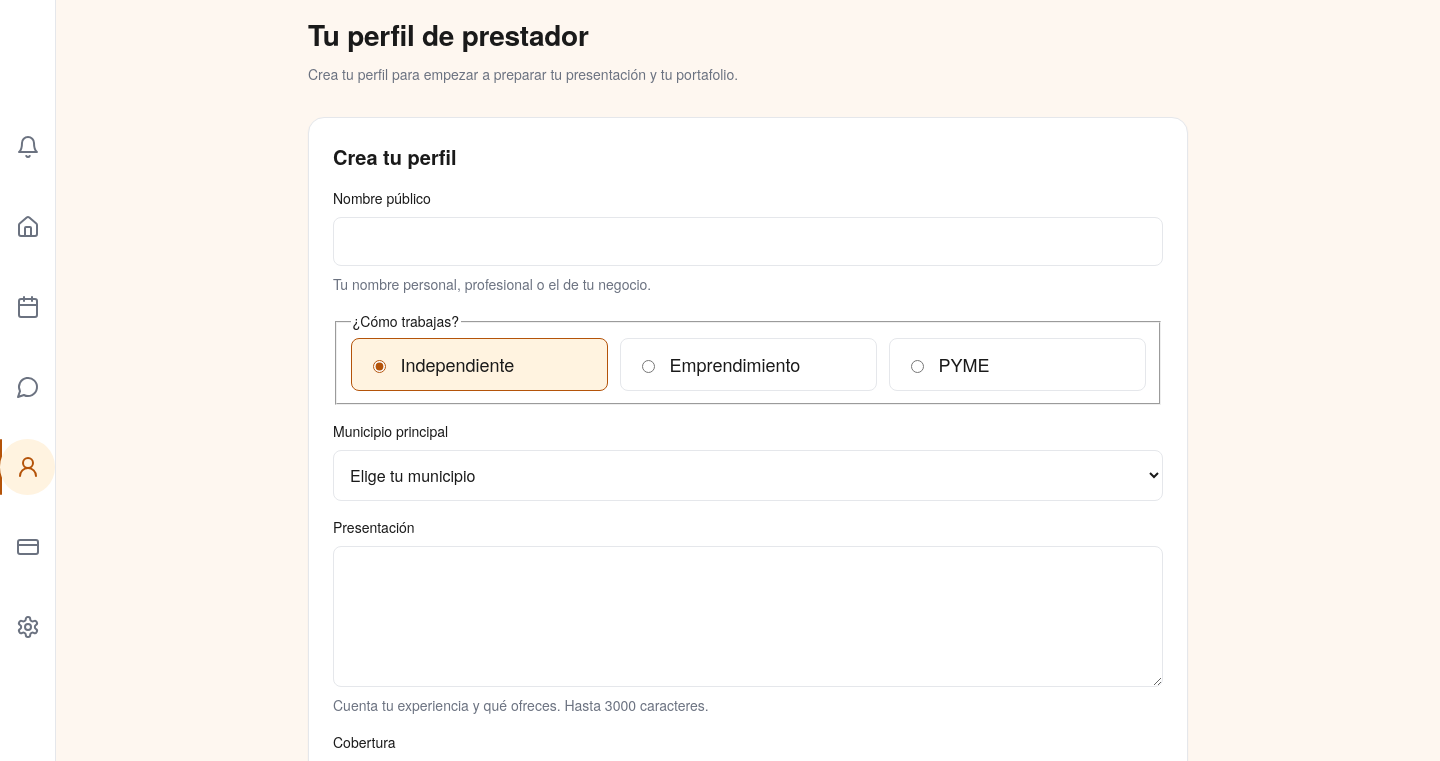
Scenario: Perfil de prestador › muestra el detalle por campo que devuelve el backend
Expected: the heading "Crea tu perfil" is shown, [333,142,456,171]
Type "Taller" into the field labelled "Nombre público" at (748, 242), box [333,217,1163,266]
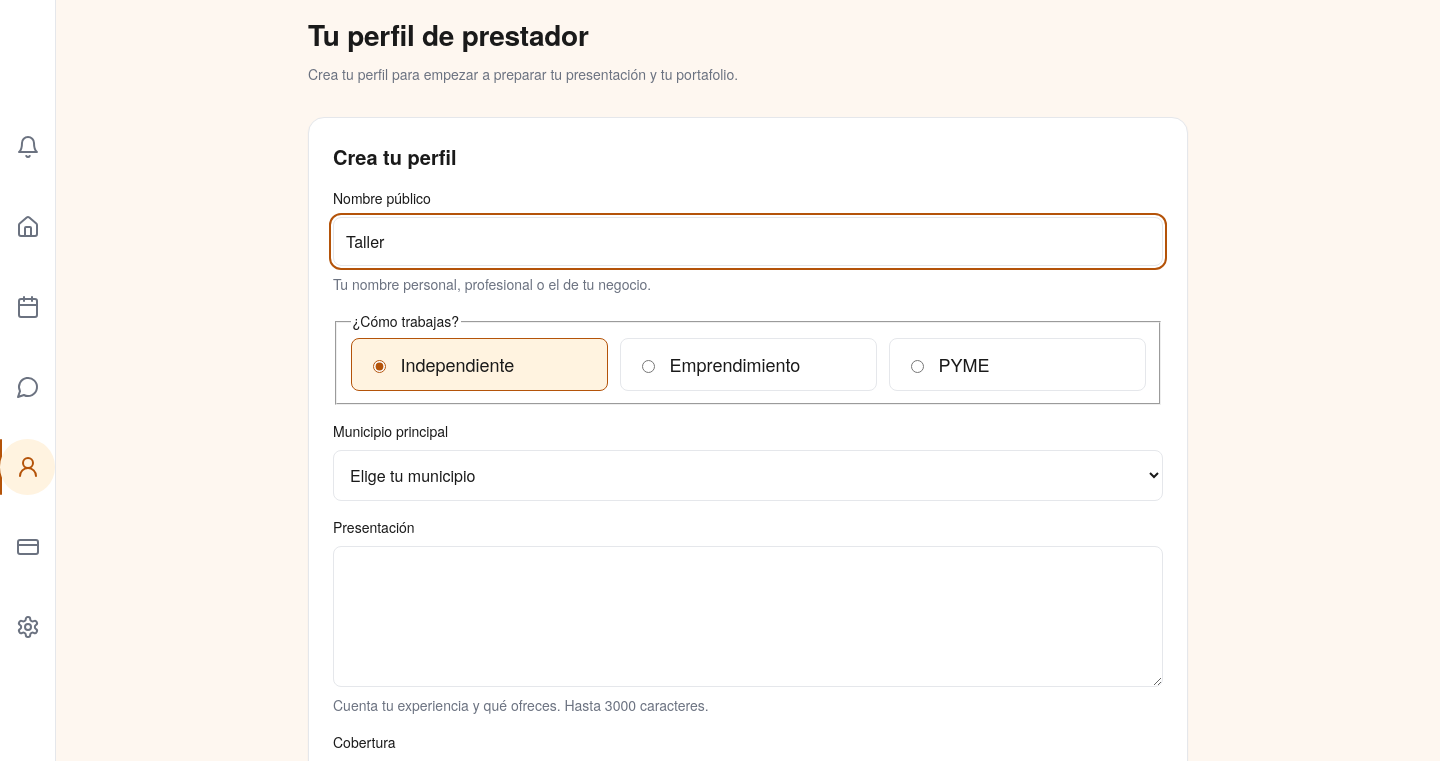
Select "Managua" in the dropdown labelled "Municipio principal" at (748, 475), box [333,450,1163,500]
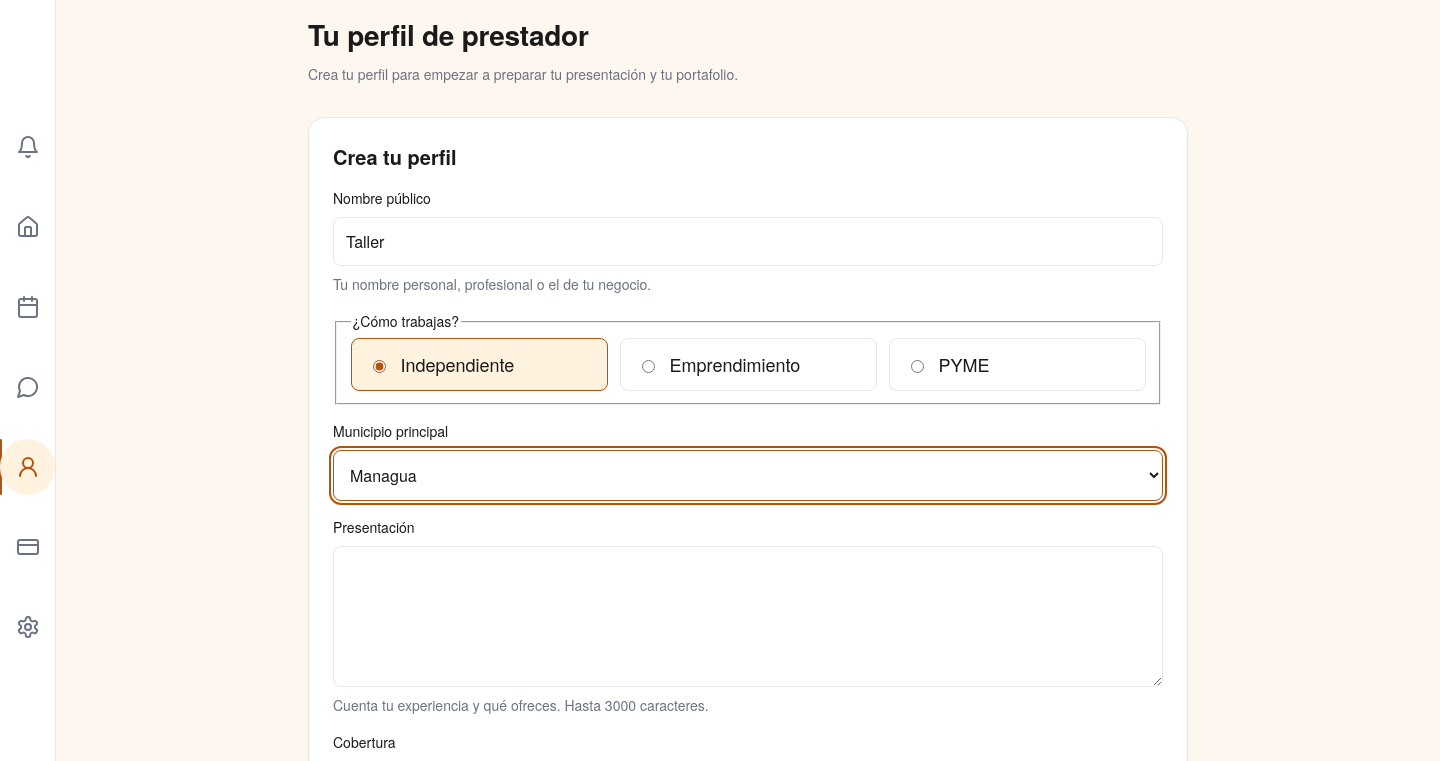
Type "Presentación de prueba." into the text box labelled "Presentación" at (748, 616), box [333,546,1163,686]
(page scrolled)
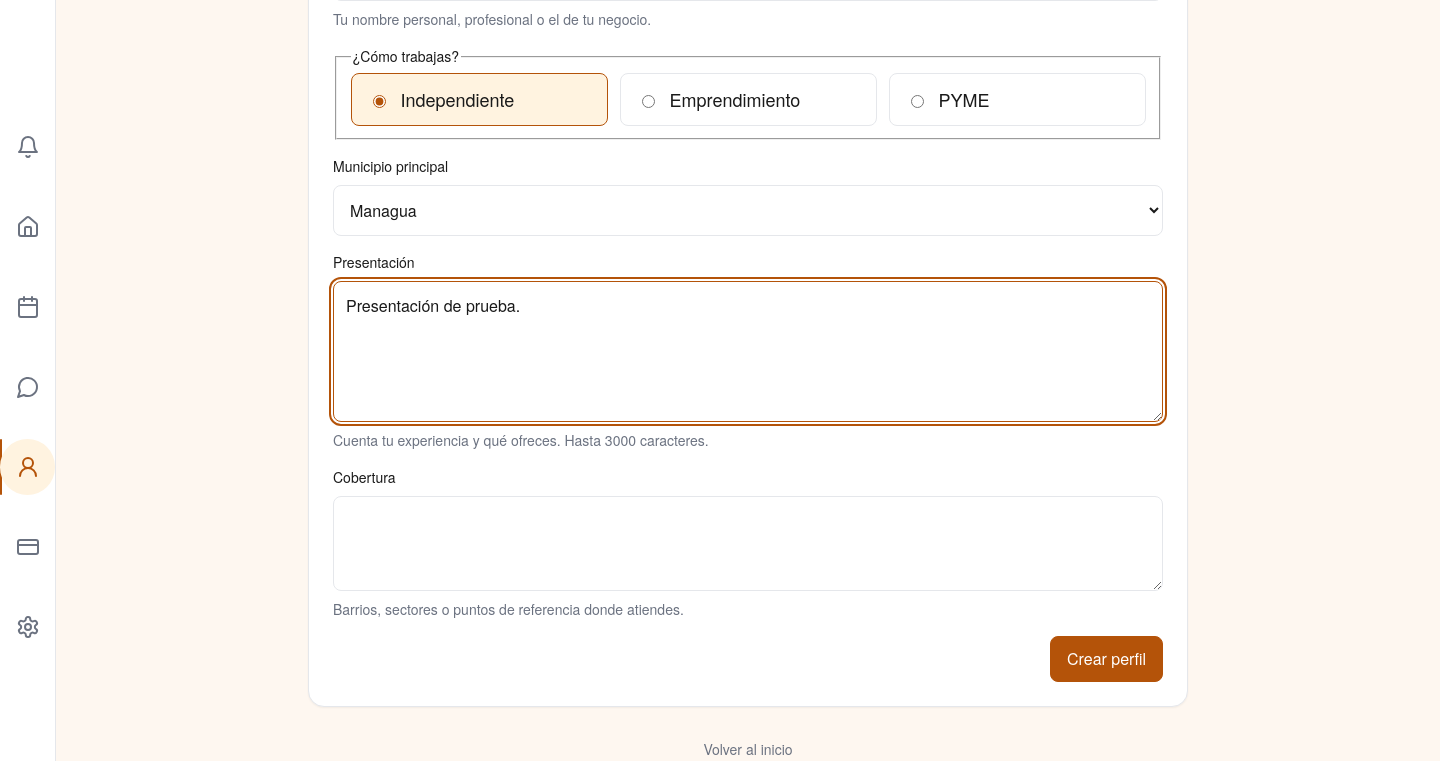
Type "Managua." into the text box labelled "Cobertura" at (748, 543), box [333,496,1163,590]
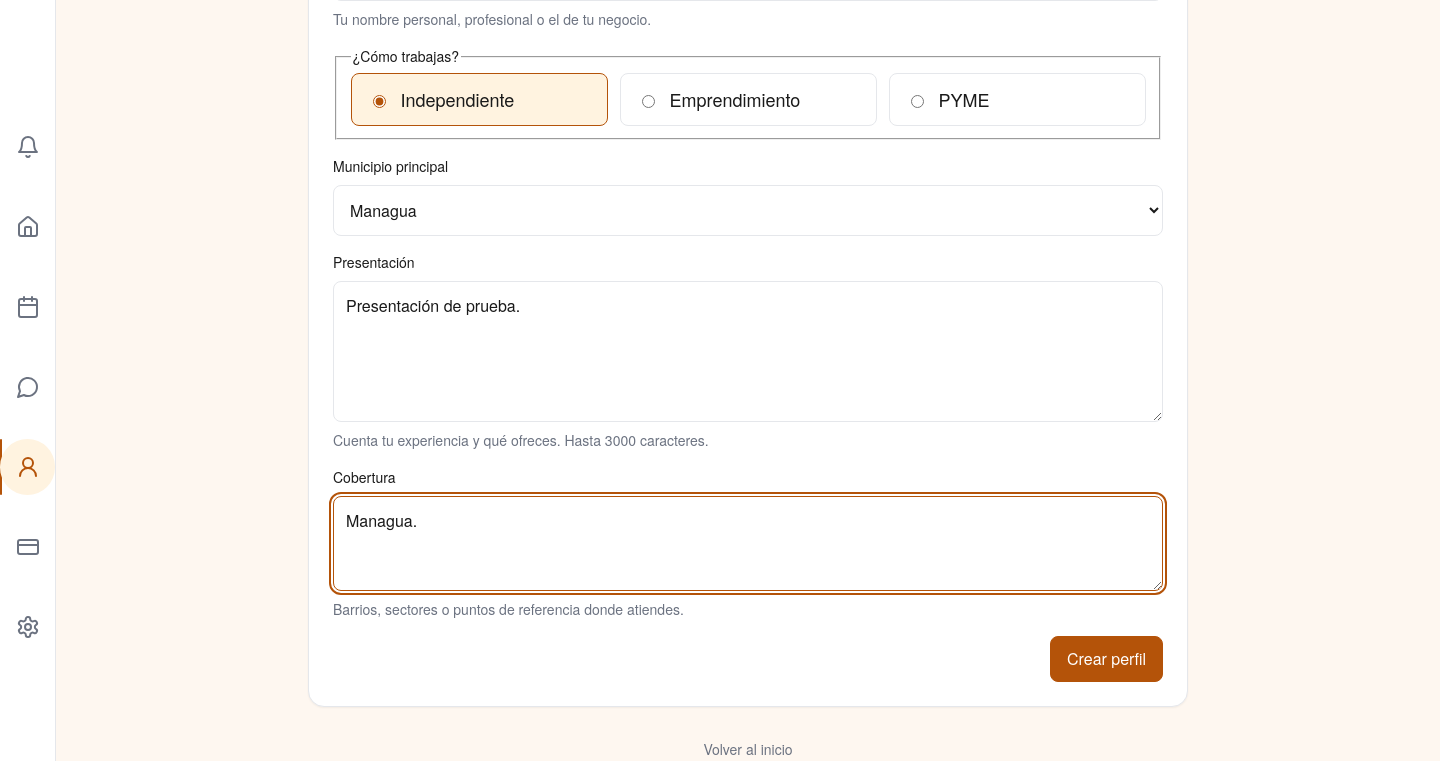
Click the button "Crear perfil" at (1106, 658), box [1050,636,1163,682]
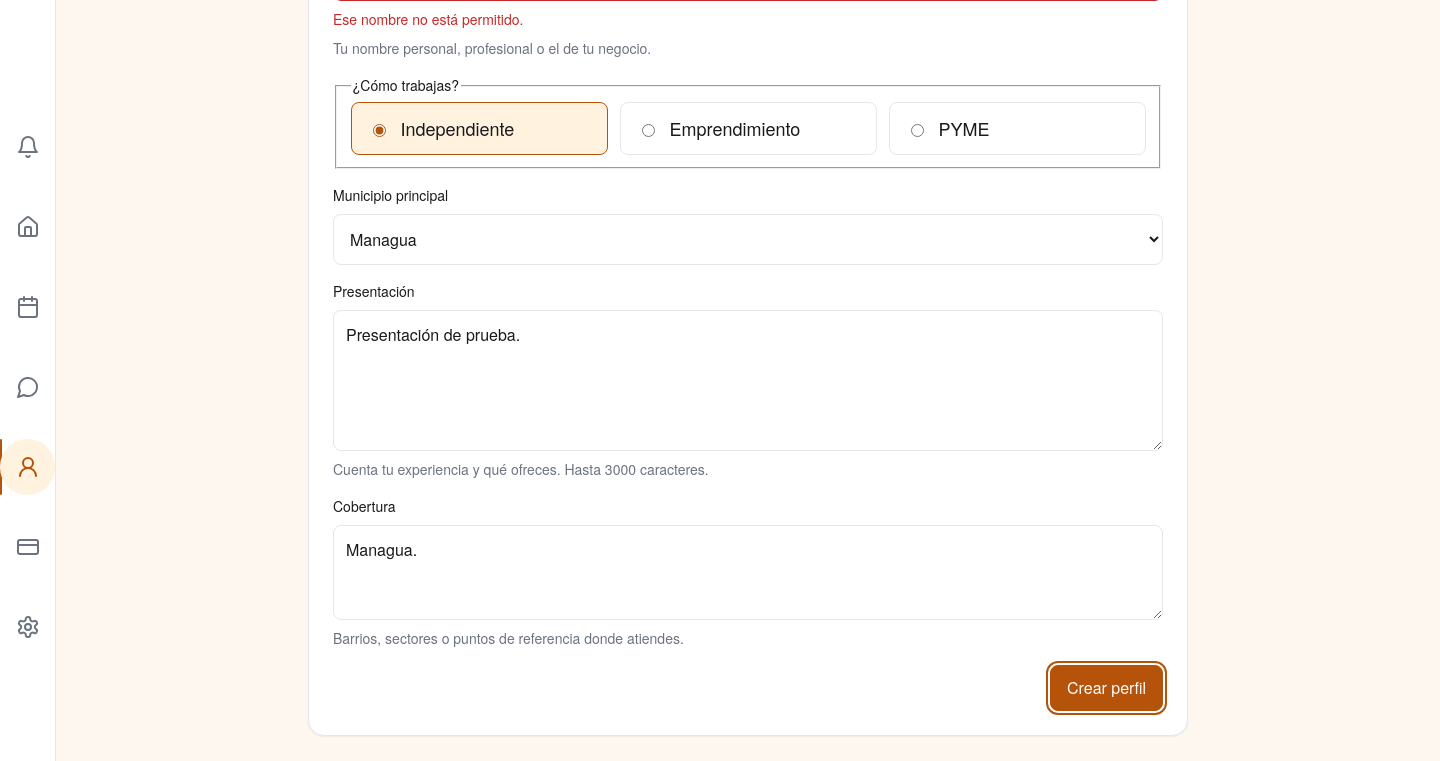
Now the text "Ese nombre no está permitido." is shown, box [333,9,523,29]
